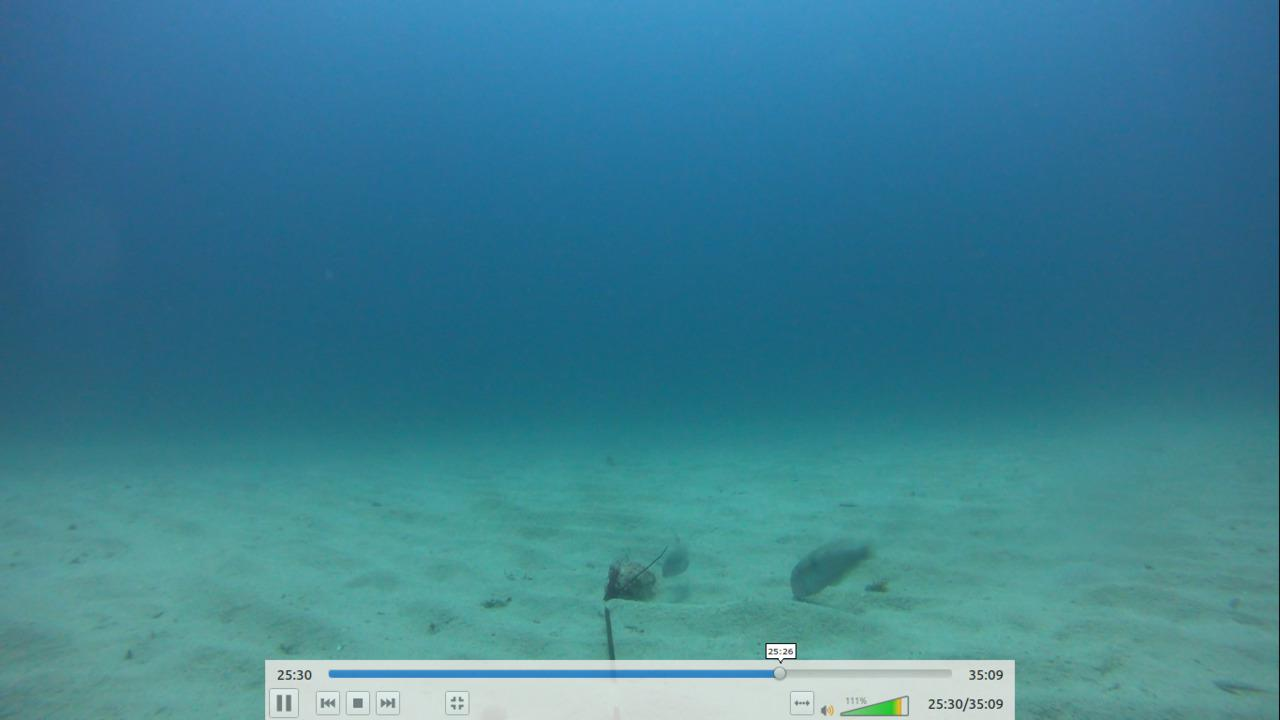raor: (786, 533, 878, 603), (654, 530, 693, 576)
